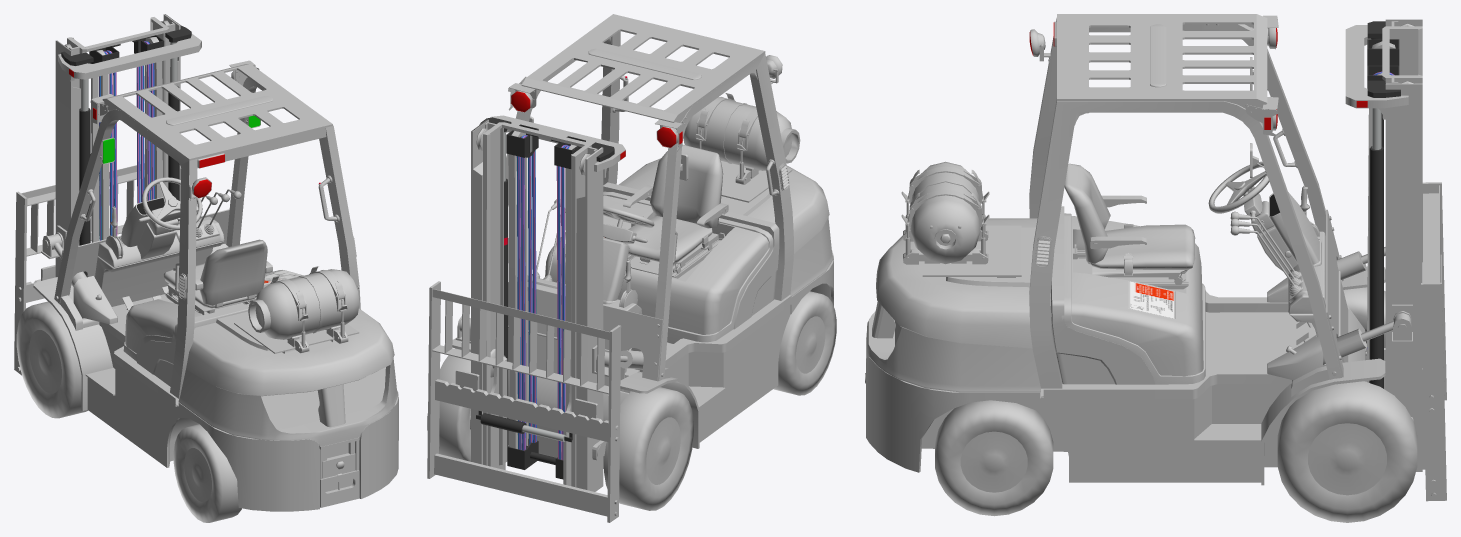
The model's file is Forklift23kNoRig_MissingParts.fbx.
3 views of the same model, side by side, from view 1: azimuth 30°, elevation 25°; view 2: azimuth 150°, elevation 25°; view 3: azimuth 270°, elevation 25° (orthographic). The views are drawn at different scales.
Parts seen in each view (by area): view 1: Forklift23kNoRig_MissingParts; view 2: Forklift23kNoRig_MissingParts; view 3: Forklift23kNoRig_MissingParts.
Boxes of the visible parts, box(x1,y1,x2,y2) form: Forklift23kNoRig_MissingParts: box(14, 14, 398, 522); Forklift23kNoRig_MissingParts: box(427, 14, 836, 522); Forklift23kNoRig_MissingParts: box(865, 14, 1446, 522).
Size of the model in its own units: 178 by 290 by 371.
